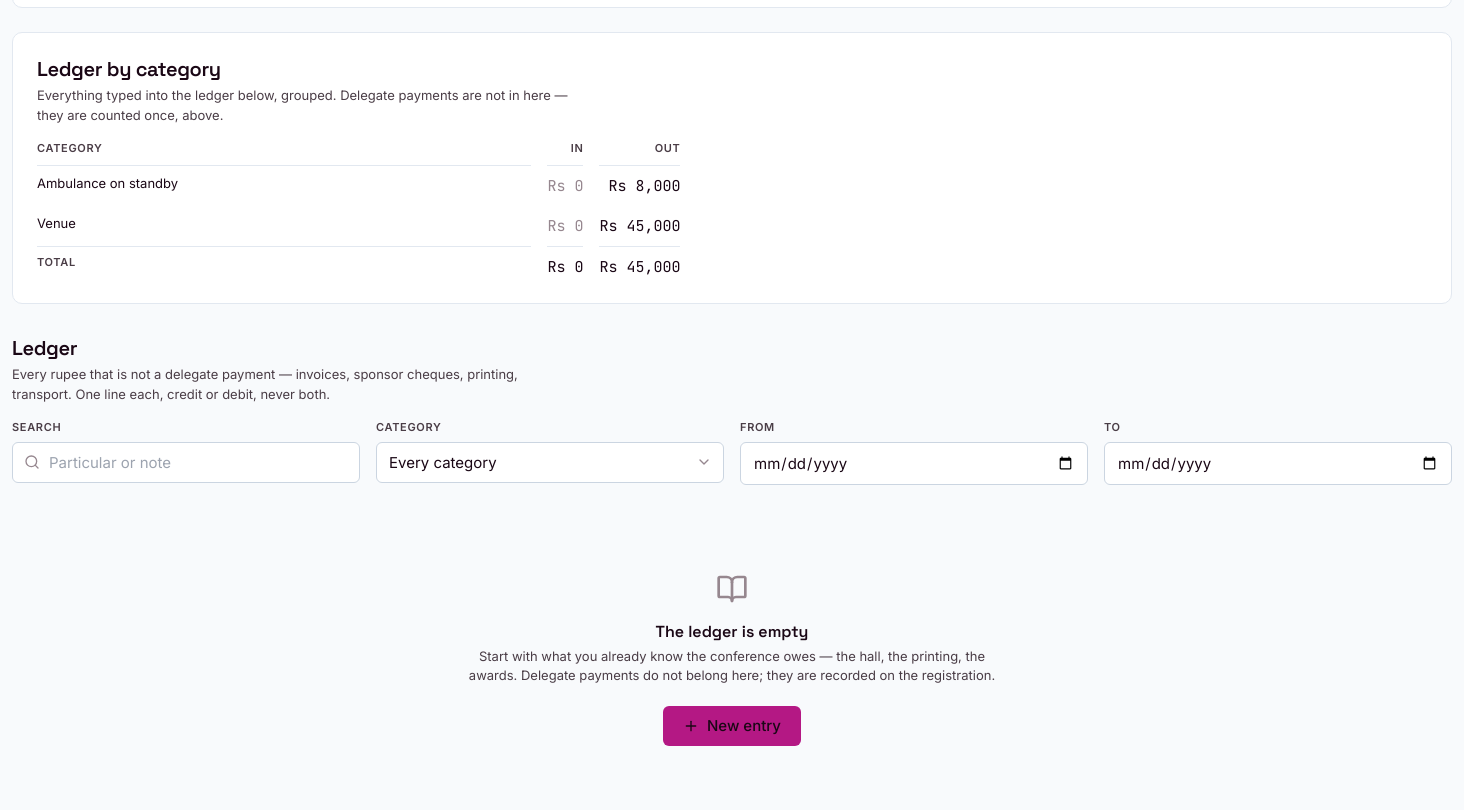
Test: the category filter › offers a category the ledger is using alongside the suggestions
The width and height of the screenshot is (1464, 810).
(page scrolled)
Step 1. Click the dropdown labelled "Category" → point(550, 462), box [376,442,724,483]
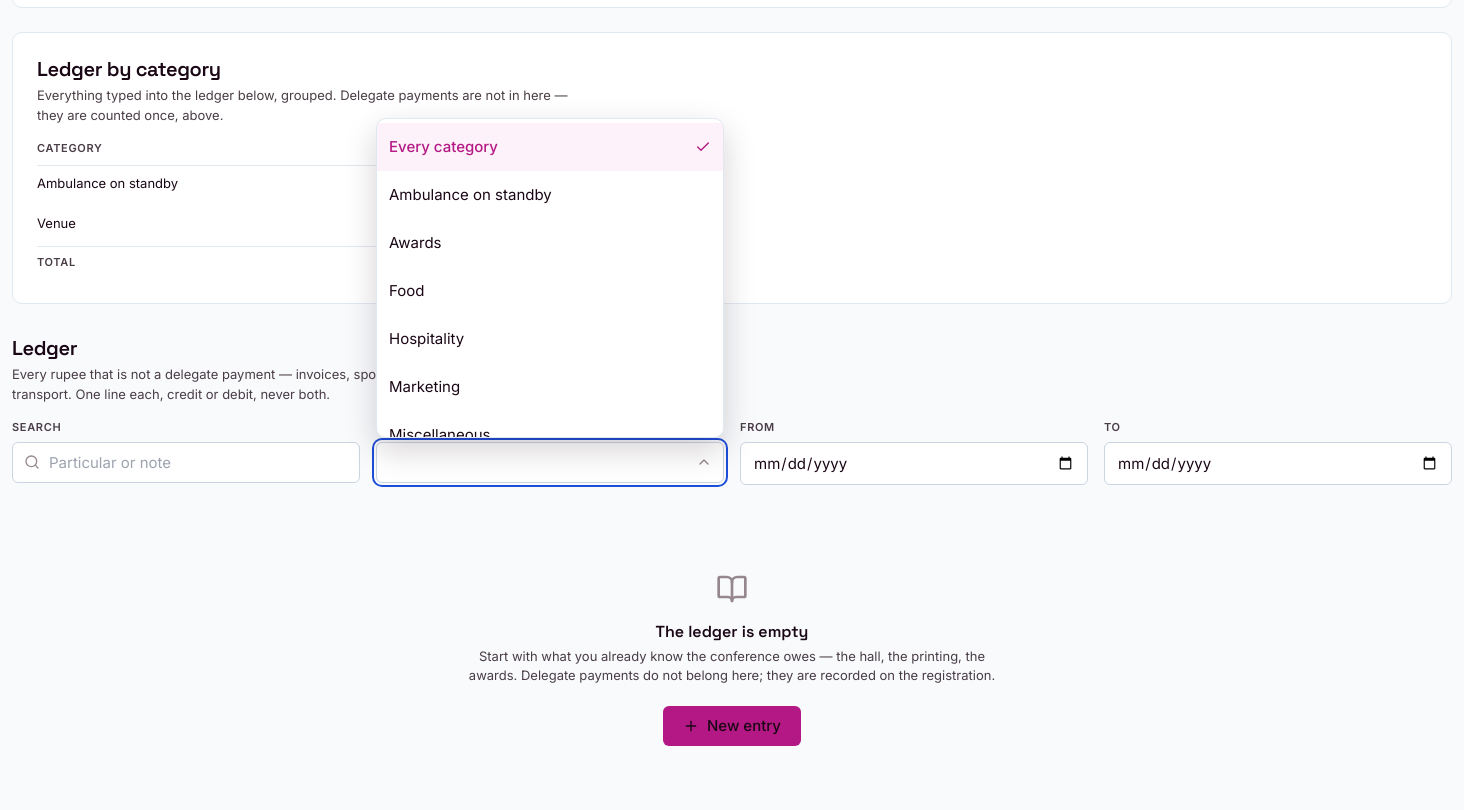
Expected: the option "Ambulance on standby" is shown, [389,185,552,204]
Expected: the option "Hospitality" is shown, [389,329,464,348]
Expected: the option "Every category" is shown, [377,123,723,171]
